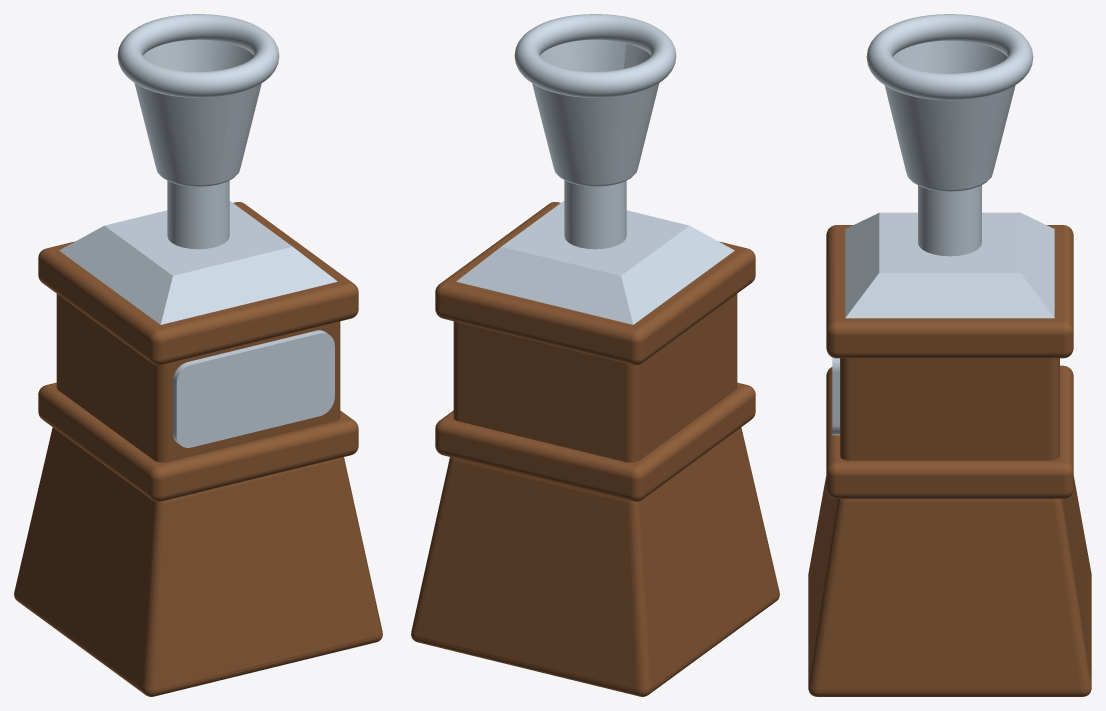
The model's file is trophy-cup.glb.
3 renders of one model, left to right at view 1: azimuth 30°, elevation 25°; view 2: azimuth 150°, elevation 25°; view 3: azimuth 270°, elevation 25°, orthographic. The views are drawn at different scales.
Visible parts, largest first — view 1: box, metal2, box.4, box.3, metal1, box.2, metal4, metal5, metal3; view 2: box, box.3, metal2, box.4, box.2, metal4, metal5, metal3; view 3: box, box.3, metal2, box.4, metal4, box.2, metal5, metal3, metal1.
Boxes of the visible parts, x1,y1,x2,y2 form: box: [14, 427, 382, 696]; metal2: [59, 201, 337, 324]; box.4: [38, 202, 358, 365]; box.3: [56, 294, 340, 462]; metal1: [172, 330, 334, 447]; box.2: [38, 382, 358, 501]; metal4: [134, 39, 261, 186]; metal5: [117, 14, 279, 97]; metal3: [167, 180, 229, 249]; box: [411, 427, 779, 696]; box.3: [453, 294, 737, 462]; metal2: [456, 201, 734, 324]; box.4: [435, 202, 755, 365]; box.2: [435, 382, 755, 501]; metal4: [532, 39, 659, 186]; metal5: [514, 14, 676, 97]; metal3: [564, 180, 626, 249]; box: [808, 476, 1091, 696]; box.3: [840, 358, 1059, 460]; metal2: [845, 212, 1054, 318]; box.4: [826, 225, 1073, 358]; metal4: [884, 40, 1015, 191]; box.2: [826, 365, 1073, 498]; metal5: [866, 14, 1033, 100]; metal3: [918, 185, 981, 256]; metal1: [832, 357, 839, 435].
Size of the model in its own units: 0.7908 by 1.83 by 0.7908.
